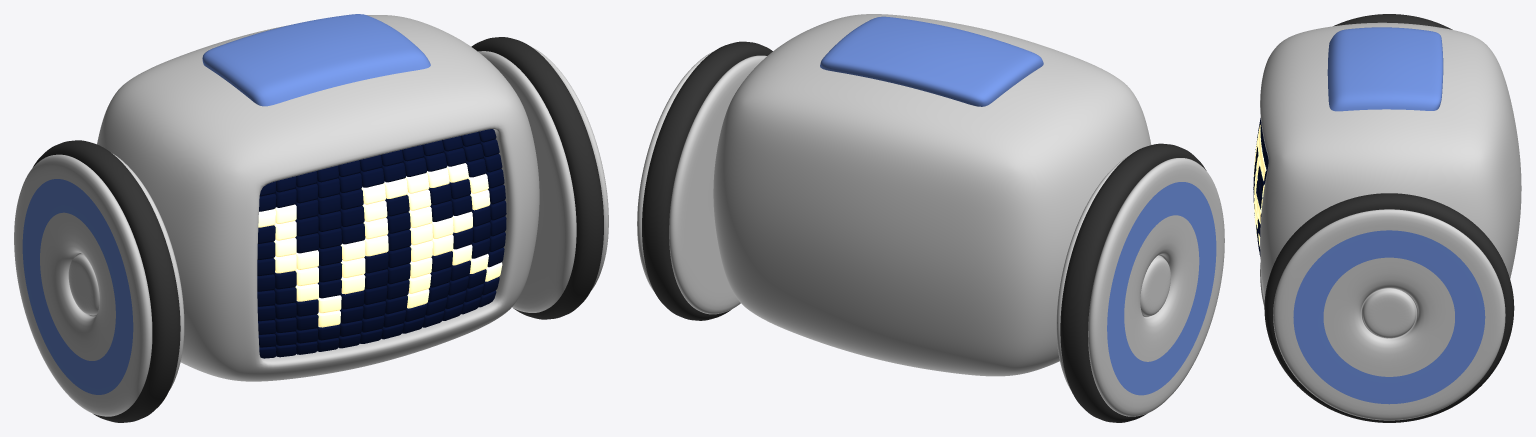
File: robot.gltf
3 views of the same model, side by side, from view 1: azimuth 30°, elevation 25°; view 2: azimuth 150°, elevation 25°; view 3: azimuth 270°, elevation 25° (orthographic). The views are drawn at different scales.
Visible parts, largest first — view 1: Cube.013; view 2: Cube.013; view 3: Cube.013.
Part boxes in pixels (x1,y1,x2,y2): Cube.013: (14,14,608,422); Cube.013: (637,14,1224,422); Cube.013: (1253,14,1521,422).
Size of the model in its own units: 2.74 by 1.78 by 1.57.
